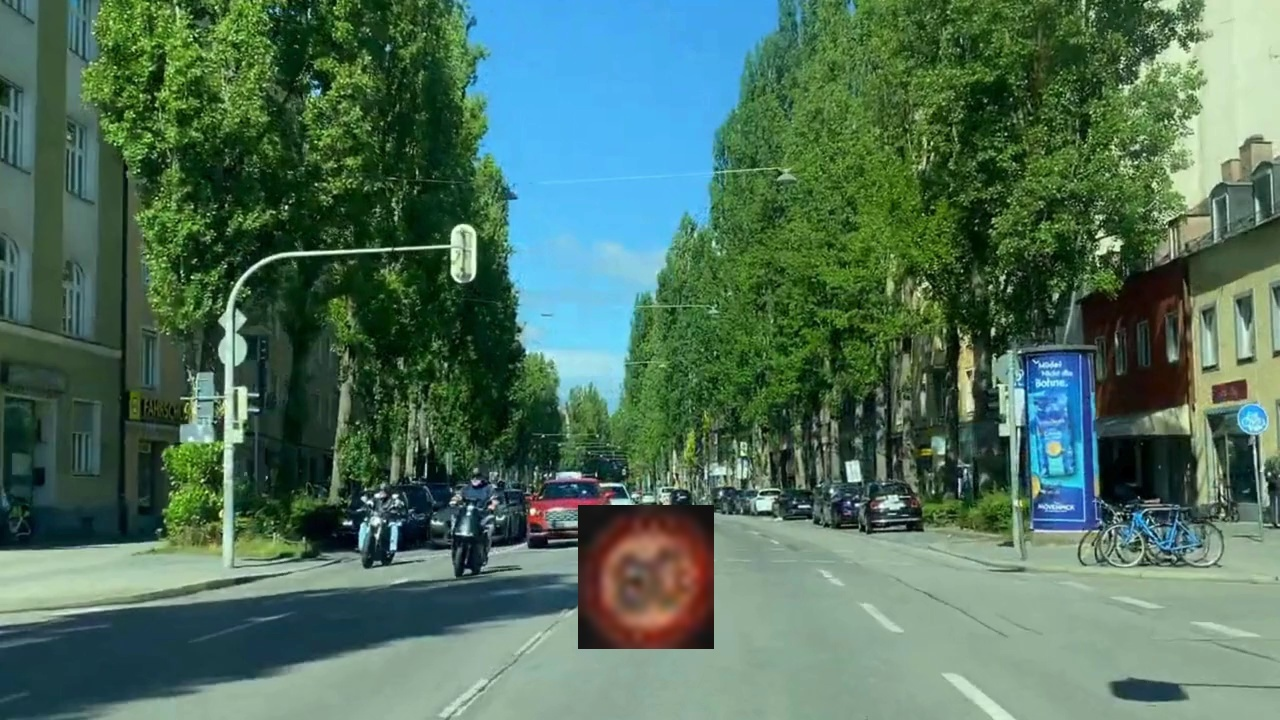Speed 80: (578, 505, 714, 649)
